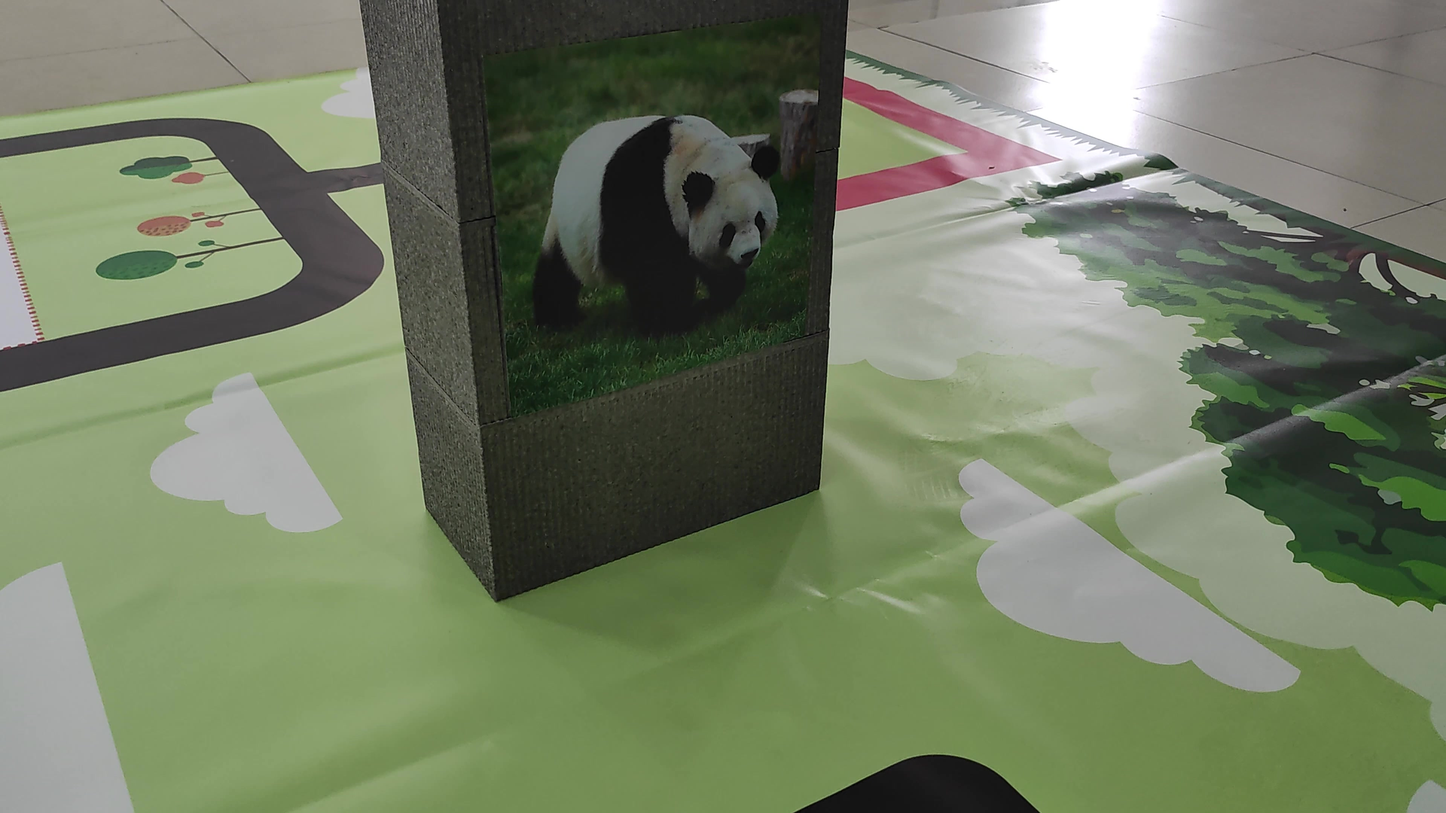panda: (478, 79, 823, 334)
